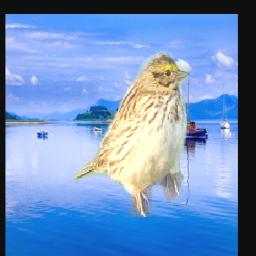Sparrow: (74, 49, 194, 217)
